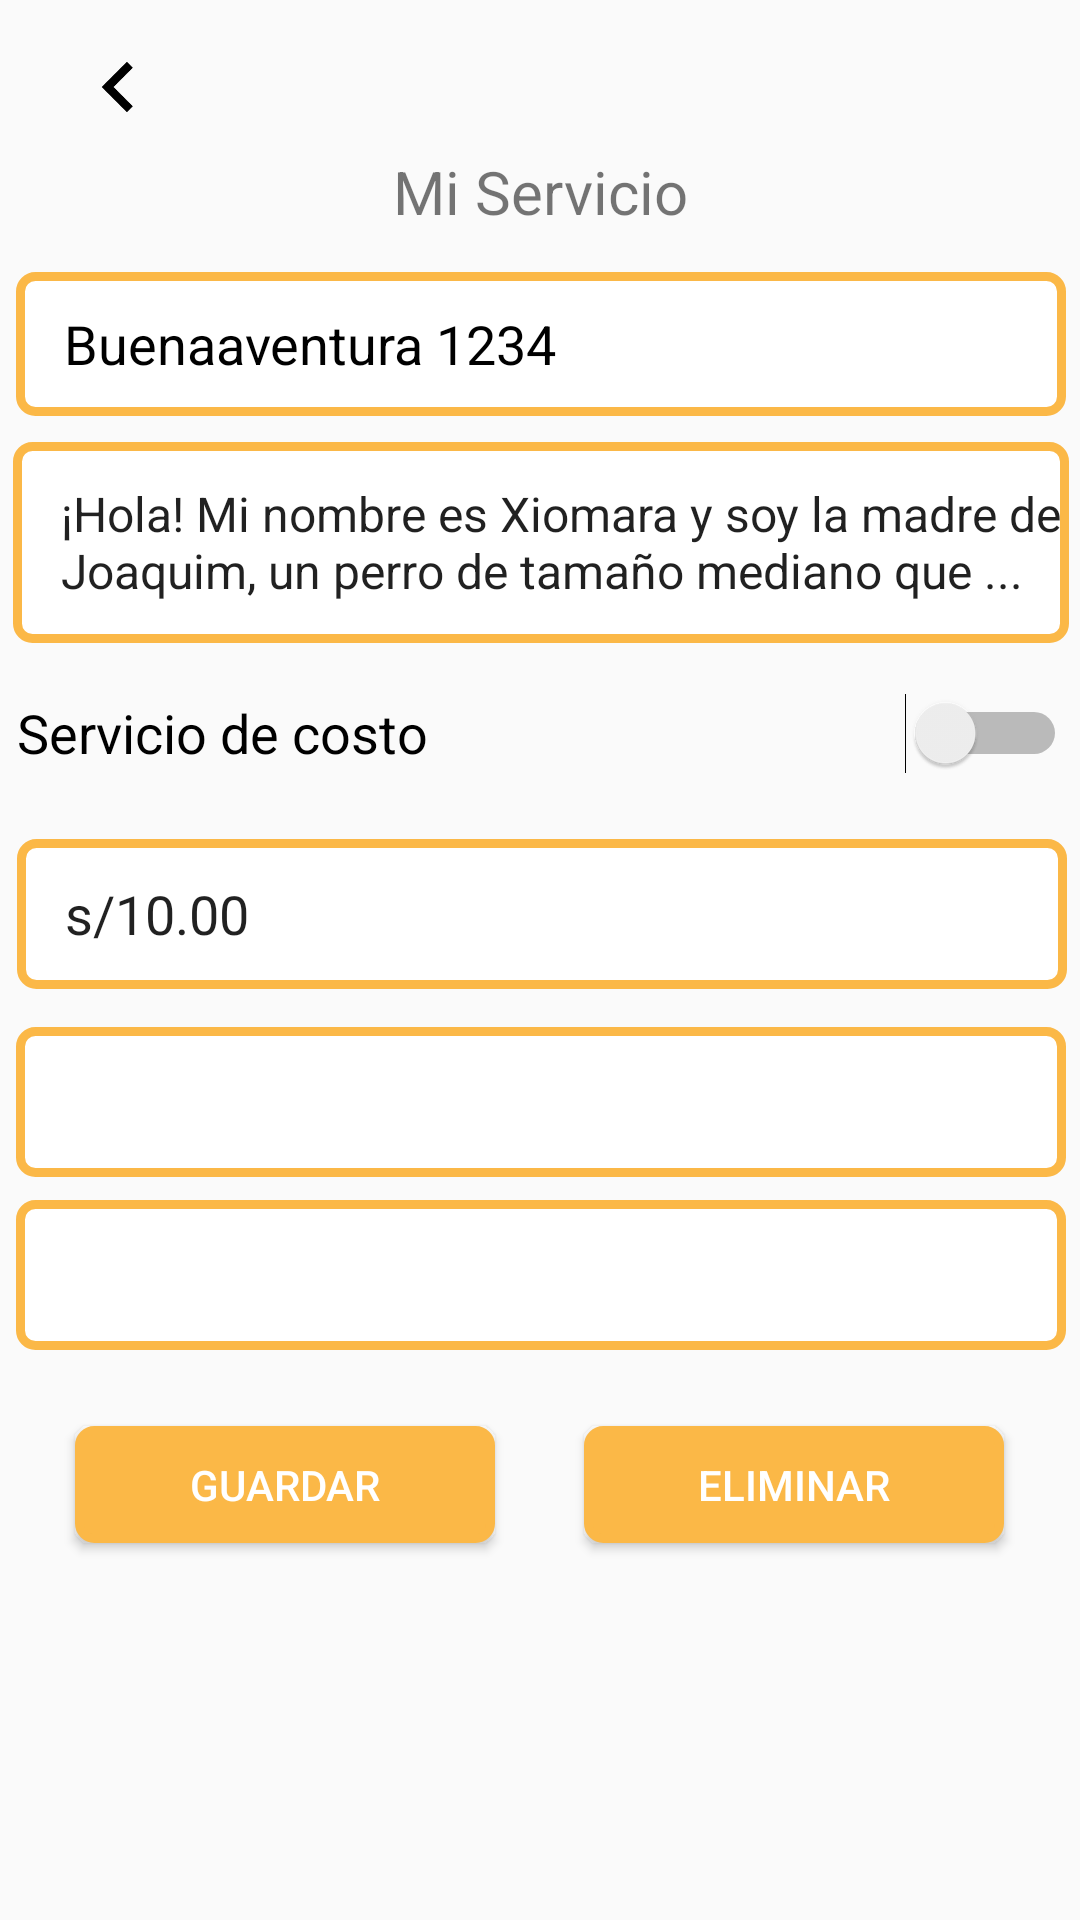

Icon bounding boxes for this 1080w x 1920h phone screenshot, format (x1, y1, x2, y2):
leftkey: (102, 62, 133, 112)
